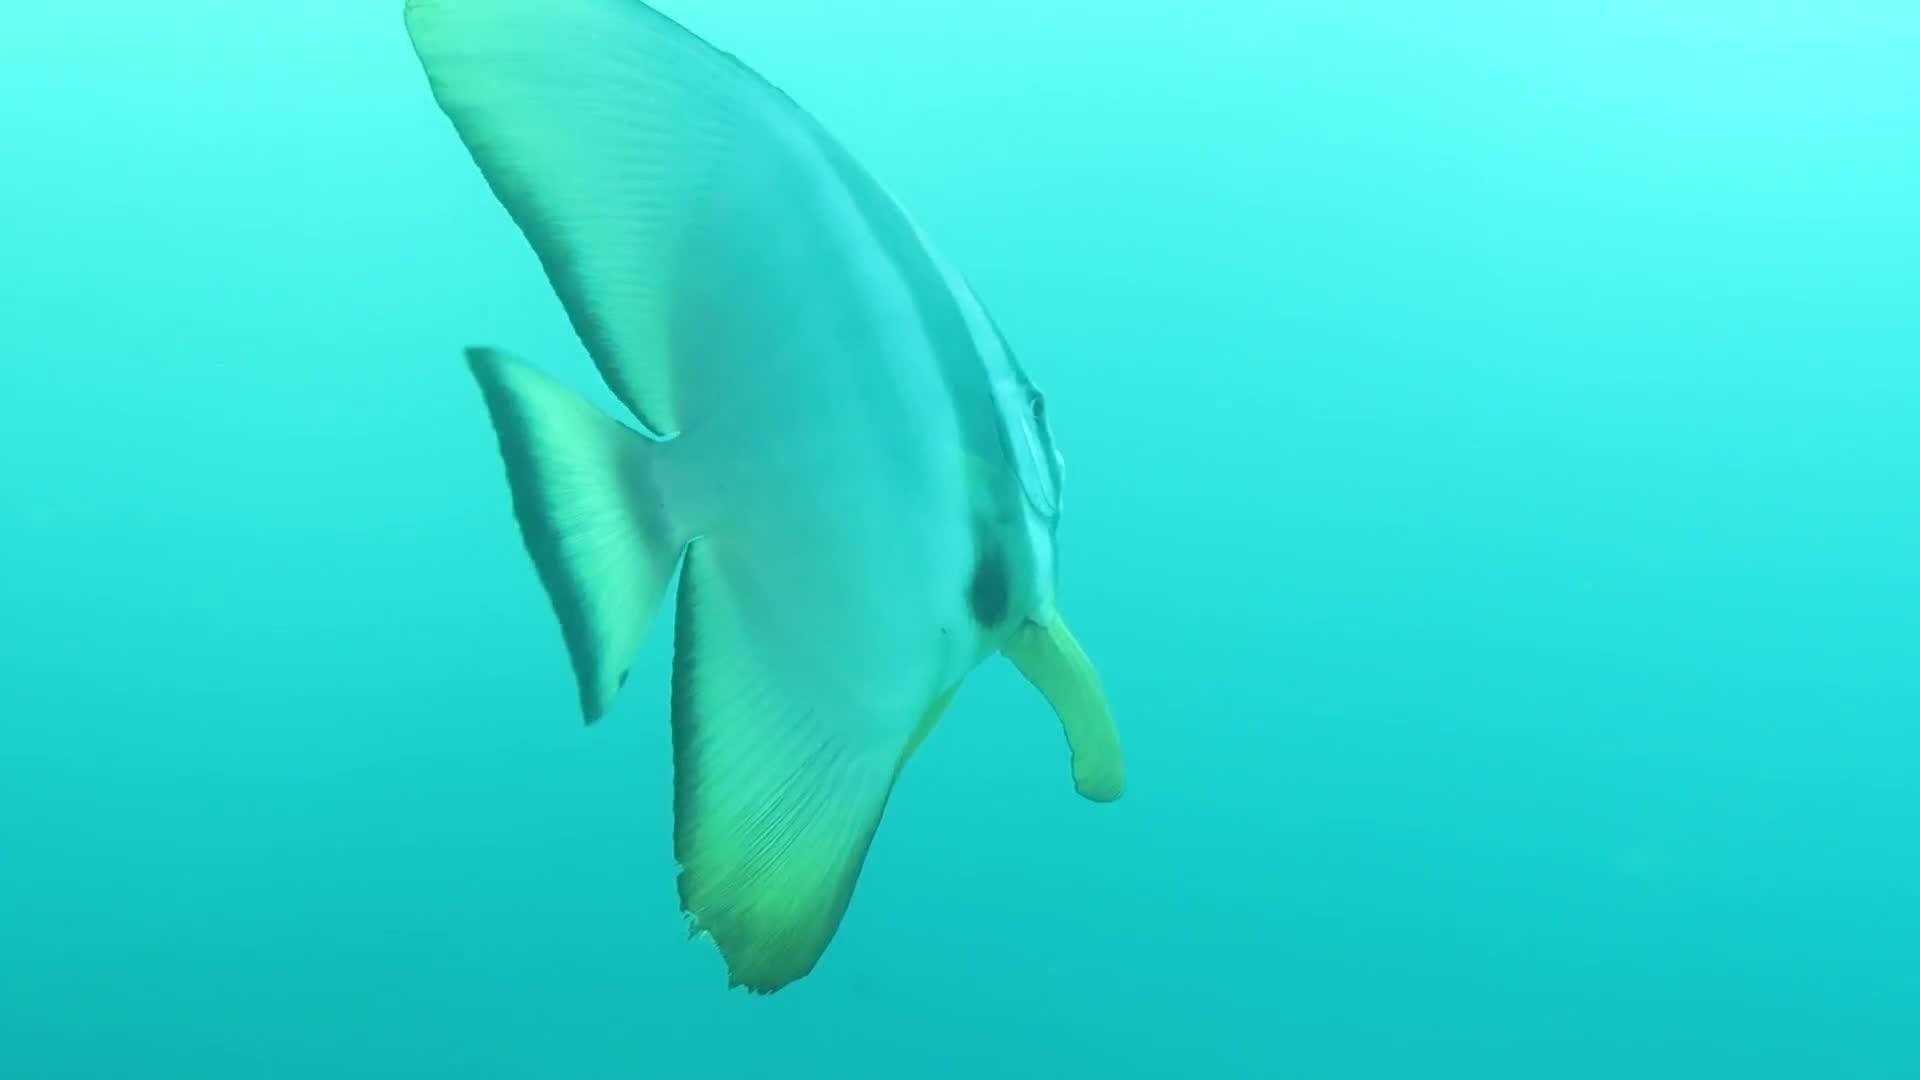Platax teira: (338, 1, 1203, 1080)
